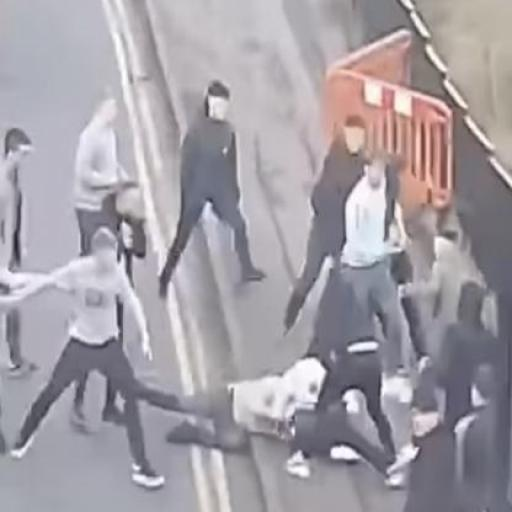Fighting: (0, 76, 512, 498)
